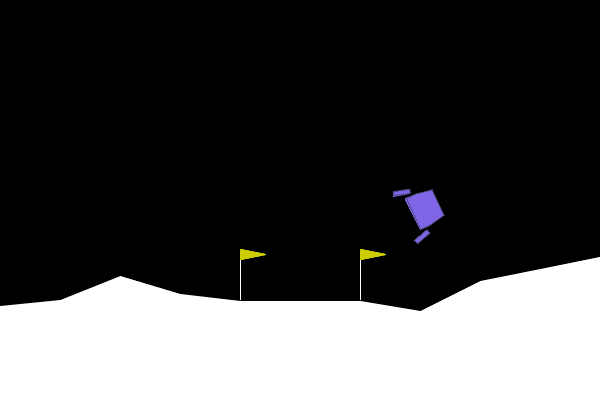lander: (391, 175, 452, 246)
